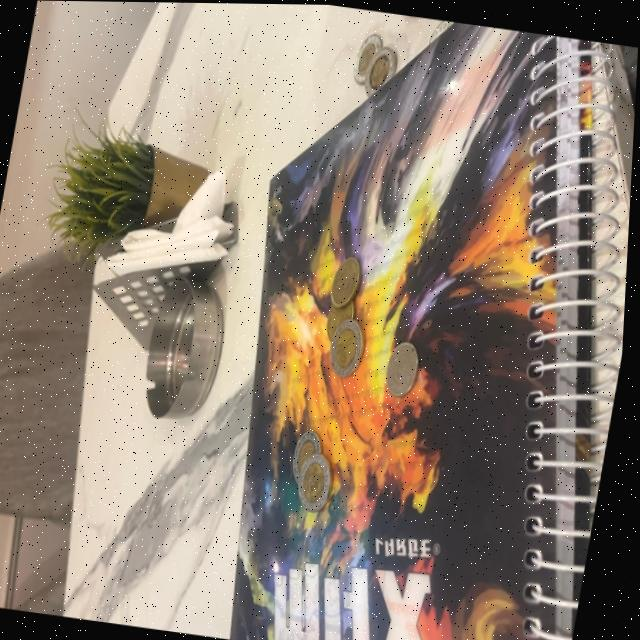Half Pound: (328, 253, 368, 309)
One Pound: (328, 321, 370, 377), (362, 44, 402, 97), (301, 456, 336, 516), (293, 427, 329, 482), (349, 27, 381, 84)
quarter pound: (381, 338, 428, 401)
